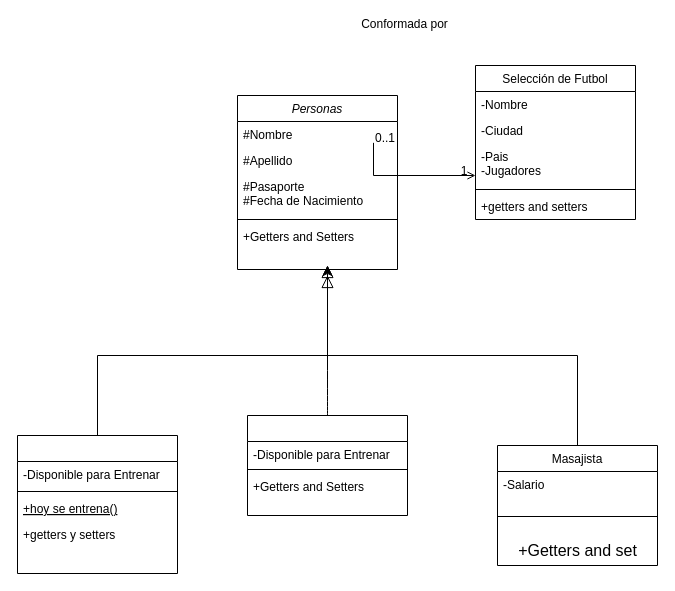
Some shapes in this 675 by 591 pixel diagram are drawn without their labels. Each missing label, with the box of its shape:
Entrenador: (16, 434, 178, 574)
Jugadores: (246, 414, 408, 516)
